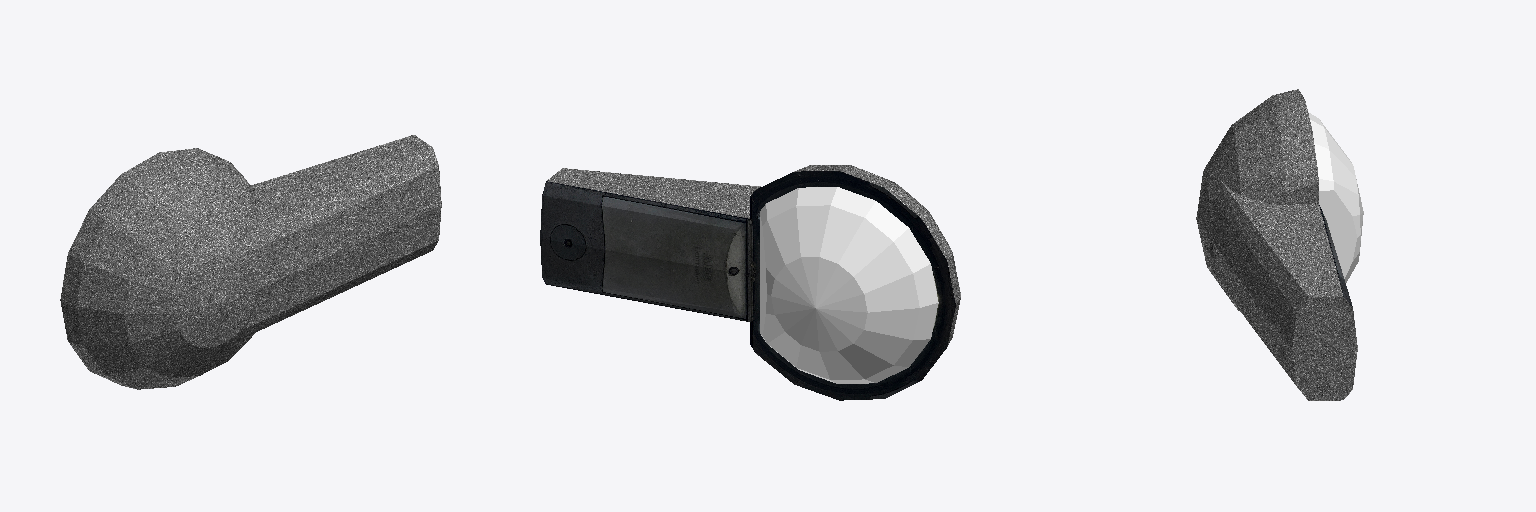
3 views of the same model, side by side, from view 1: azimuth 30°, elevation 25°; view 2: azimuth 150°, elevation 25°; view 3: azimuth 270°, elevation 25° (orthographic).
Visible parts, largest first — view 1: Stradasole_530_Cube.001; view 2: Stradasole_530_Cube.001; view 3: Stradasole_530_Cube.001.
Boxes of the visible parts, x1=… form: Stradasole_530_Cube.001: x1=60, y1=135, x2=441, y2=389; Stradasole_530_Cube.001: x1=540, y1=165, x2=960, y2=400; Stradasole_530_Cube.001: x1=1196, y1=89, x2=1363, y2=400.
Bounding box in the file's own units: 0.8929 × 0.5107 × 0.3374.
3 materials, 2 textured.